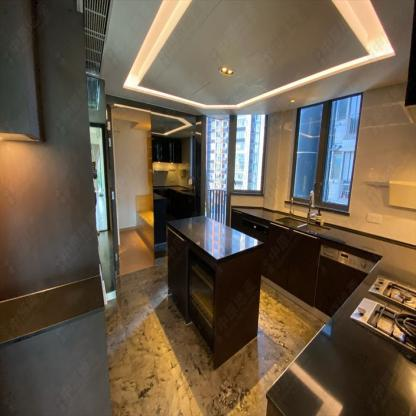Cupboard: (166, 215, 263, 371), (264, 221, 320, 307)
Faucet: (308, 187, 315, 223)
Oven: (314, 244, 376, 317)
Sink: (276, 217, 329, 233)
Stove: (348, 275, 416, 355)
